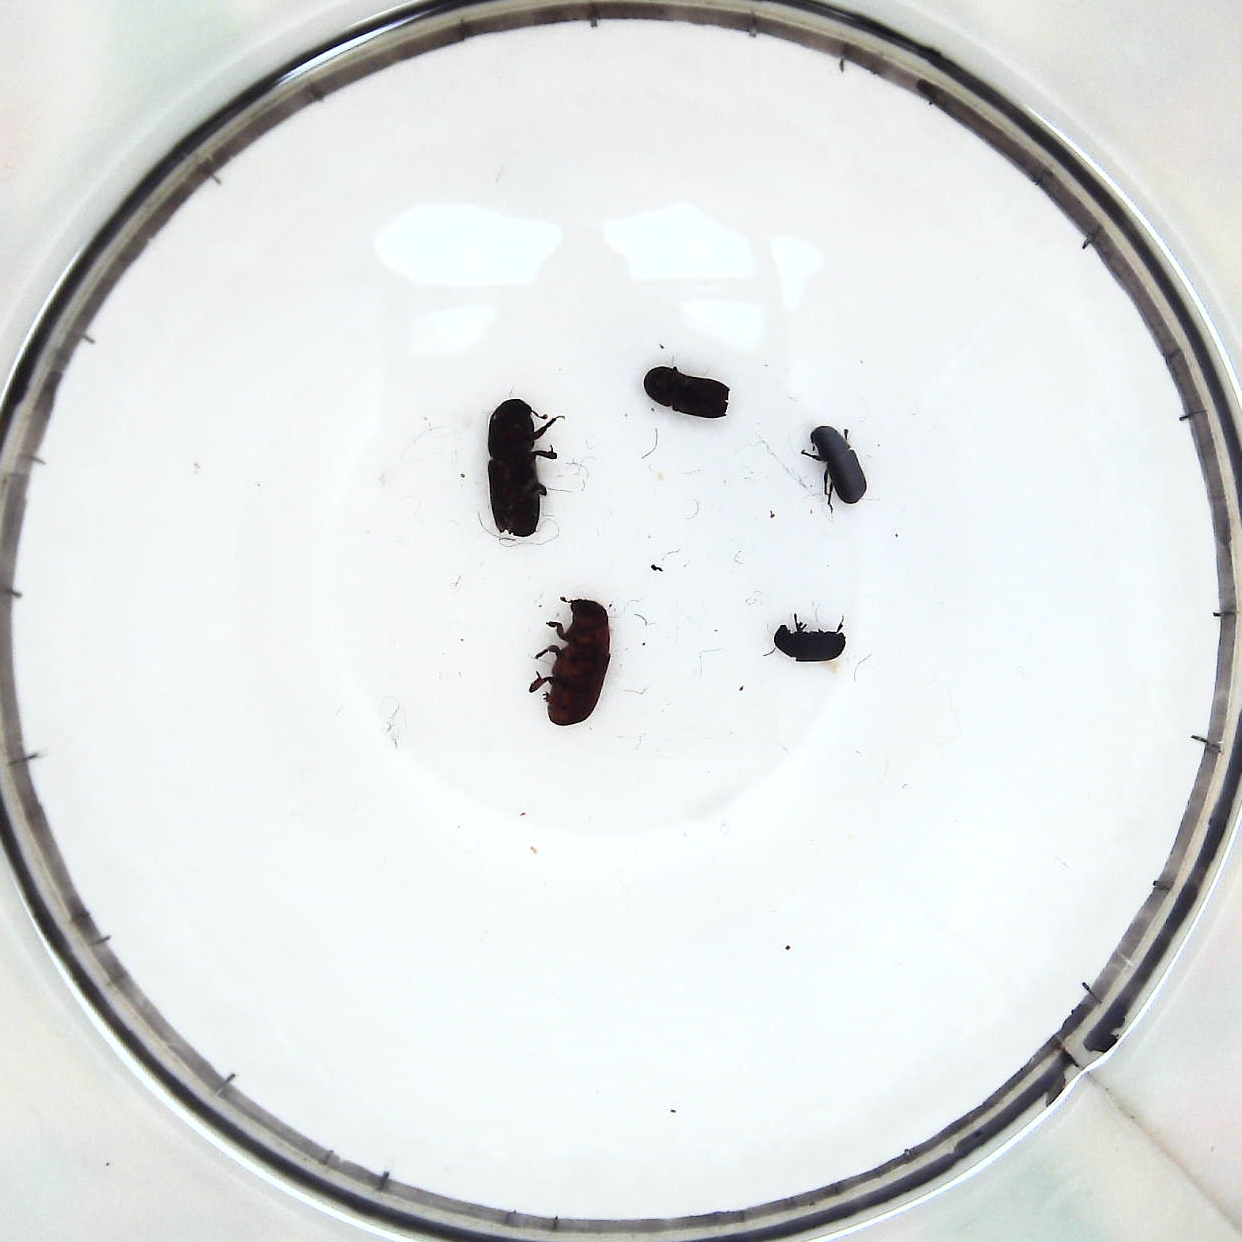Boerner: (487, 399, 558, 539)
Leconte: (546, 598, 616, 728)
Linnaeus: (641, 365, 731, 420)
armandi: (808, 424, 871, 507)
coleoptera: (775, 619, 847, 669)
